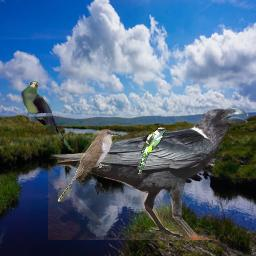Crow: (48, 104, 249, 240)
Cuckoo: (58, 129, 120, 202), (21, 81, 75, 151), (138, 127, 169, 174)
